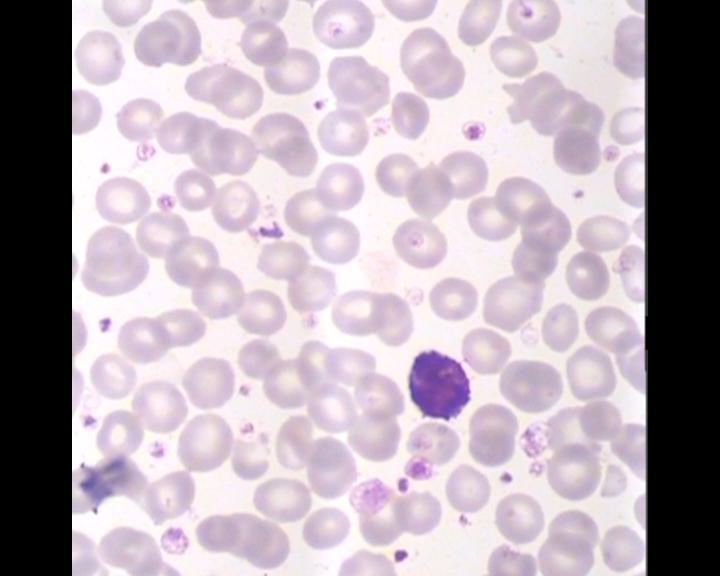baso: (400, 344, 475, 424)
